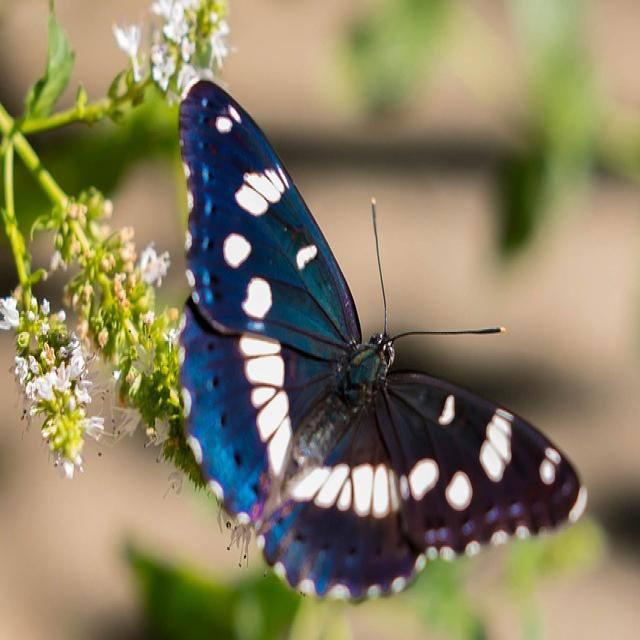butterfly: (179, 78, 588, 605)
